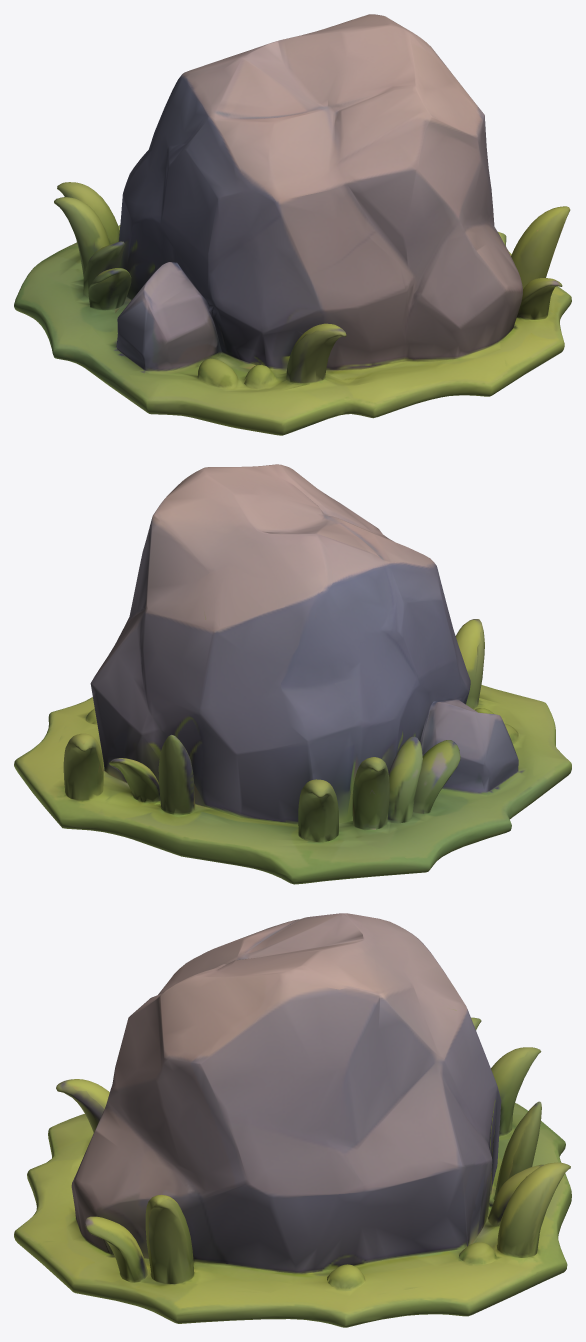
The model's file is rock2.fbx.
The picture shows the model from 3 angles, top to bottom: view 1: azimuth 30°, elevation 25°; view 2: azimuth 150°, elevation 25°; view 3: azimuth 270°, elevation 25°; orthographic projection. The views are drawn at different scales.
Parts seen in each view (by area): view 1: node_0.003; view 2: node_0.003; view 3: node_0.003.
Part boxes in pixels (x1,y1,x2,y2): node_0.003: [14, 14, 571, 435]; node_0.003: [14, 464, 571, 884]; node_0.003: [14, 913, 571, 1327].
Size of the model in its own units: 0.4286 by 0.2446 by 0.4157.
1 material, 1 textured.
